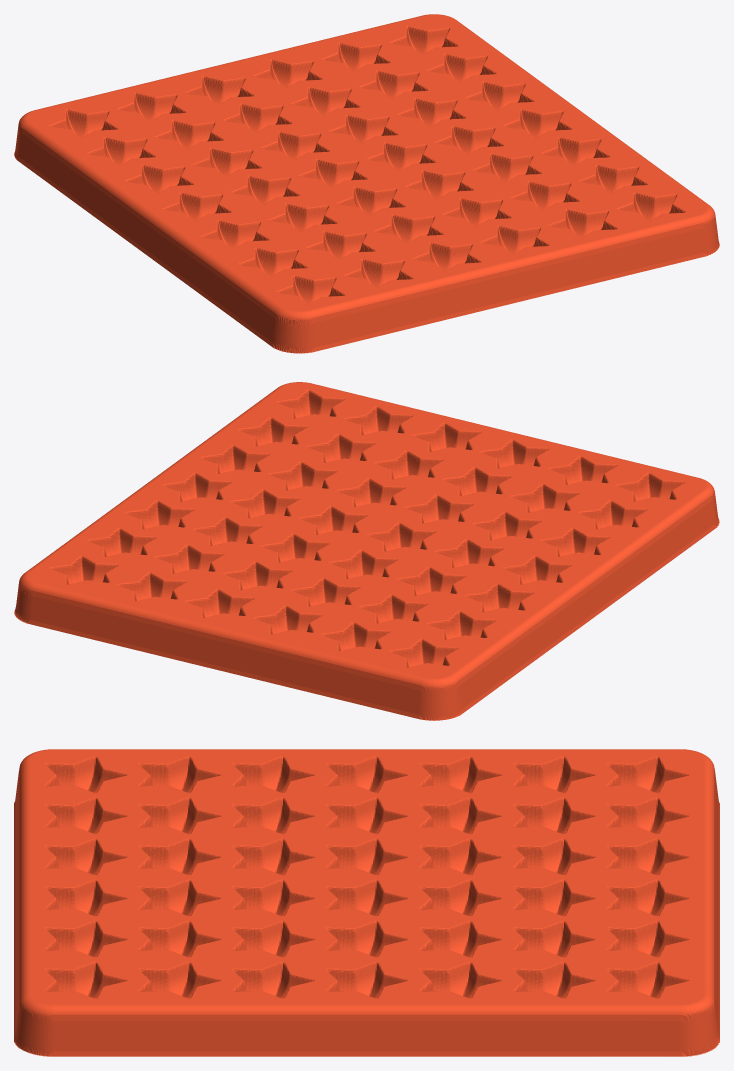
Rendered from mold.glb.
3 renders of one model, top to bottom at view 1: azimuth 30°, elevation 25°; view 2: azimuth 150°, elevation 25°; view 3: azimuth 270°, elevation 25°, orthographic. The views are drawn at different scales.
Visible parts, largest first — view 1: geometry_0; view 2: geometry_0; view 3: geometry_0.
Boxes of the visible parts, x1=… form: geometry_0: x1=14, y1=14, x2=719, y2=353; geometry_0: x1=14, y1=382, x2=719, y2=720; geometry_0: x1=14, y1=749, x2=719, y2=1056.
Size of the model in its own units: 0.1437 by 0.0114 by 0.16.
